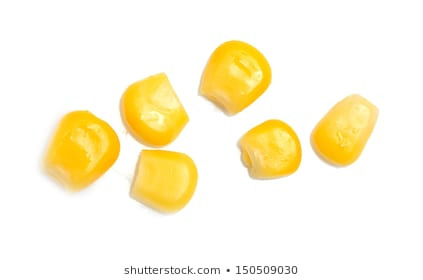corn: (40, 112, 121, 194), (198, 39, 273, 117), (120, 70, 191, 148), (308, 96, 378, 168), (130, 146, 197, 219), (236, 119, 302, 182)
